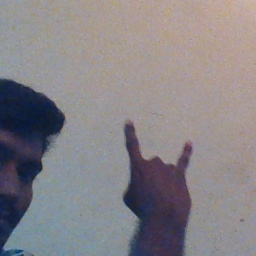V: (116, 115, 201, 227)
